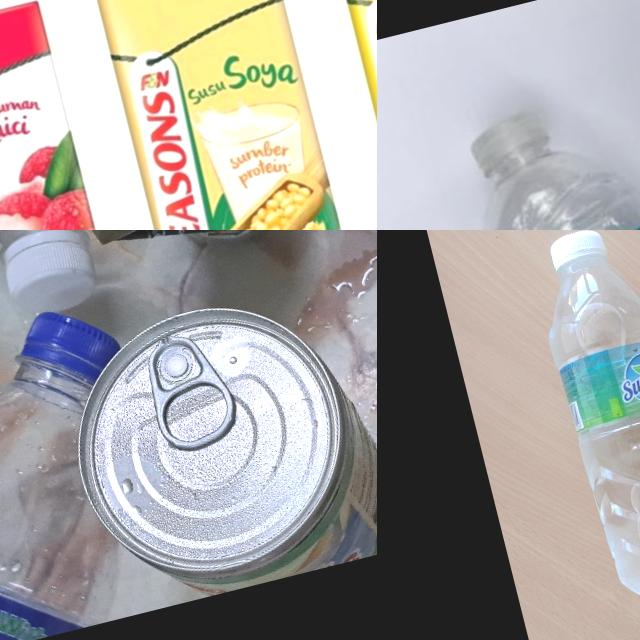aba de lata: (137, 328, 242, 452)
caixinha: (87, 0, 377, 230), (0, 0, 146, 230)
garrafa plástica: (0, 345, 147, 640), (532, 244, 640, 608), (457, 107, 640, 230)
lata: (45, 267, 377, 619), (50, 230, 313, 272)
tampa plástica: (20, 294, 126, 388), (0, 230, 104, 324), (464, 104, 556, 180), (544, 230, 612, 279)
